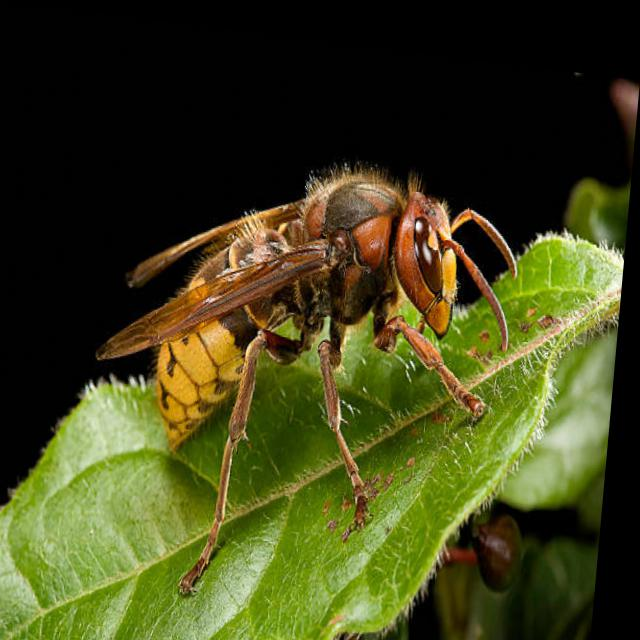Vespa Crabro: (59, 112, 535, 620)
